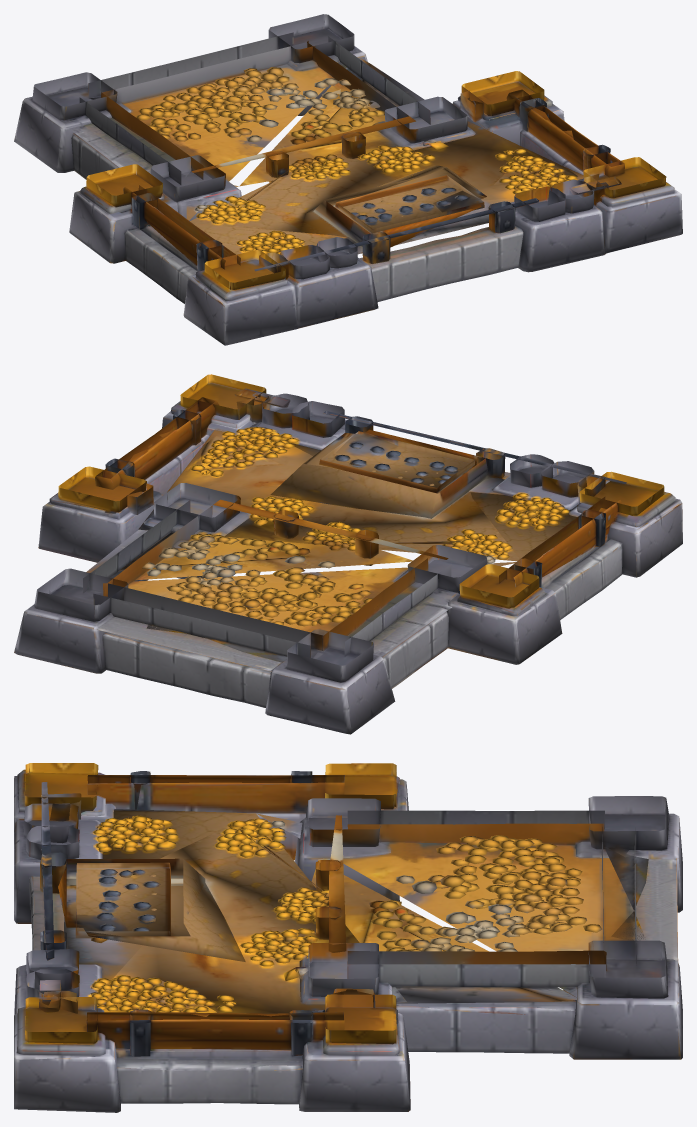
The model's file is ganaderia_e1.glb.
The picture shows the model from 3 angles, top to bottom: view 1: azimuth 30°, elevation 25°; view 2: azimuth 150°, elevation 25°; view 3: azimuth 270°, elevation 25°; orthographic projection. The views are drawn at different scales.
Parts seen in each view (by area): view 1: ganaderia_cuerpo; view 2: ganaderia_cuerpo; view 3: ganaderia_cuerpo.
Part boxes in pixels (bbox=[...]): ganaderia_cuerpo: bbox=[14, 14, 682, 345]; ganaderia_cuerpo: bbox=[14, 374, 682, 734]; ganaderia_cuerpo: bbox=[14, 763, 682, 1112].
Bounding box in the file's own units: 1.42 × 0.1758 × 1.42.
1 material, 1 textured.
